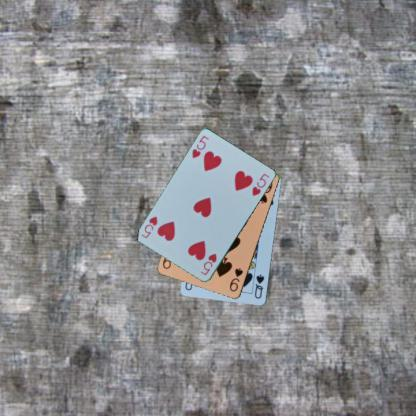5h: (190, 133, 210, 160), (198, 251, 218, 277)
9s: (226, 266, 245, 293)
Qs: (252, 272, 266, 300)
